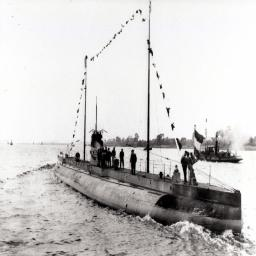submarine: (44, 2, 245, 238)
